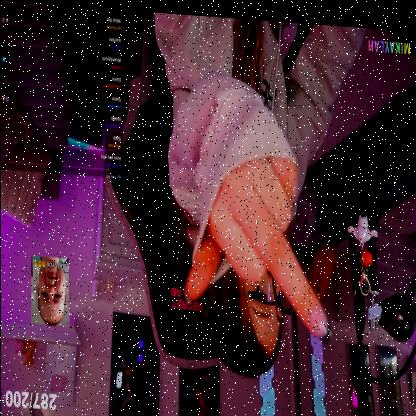donation: (30, 252, 68, 324)
streamer: (154, 9, 366, 380)
